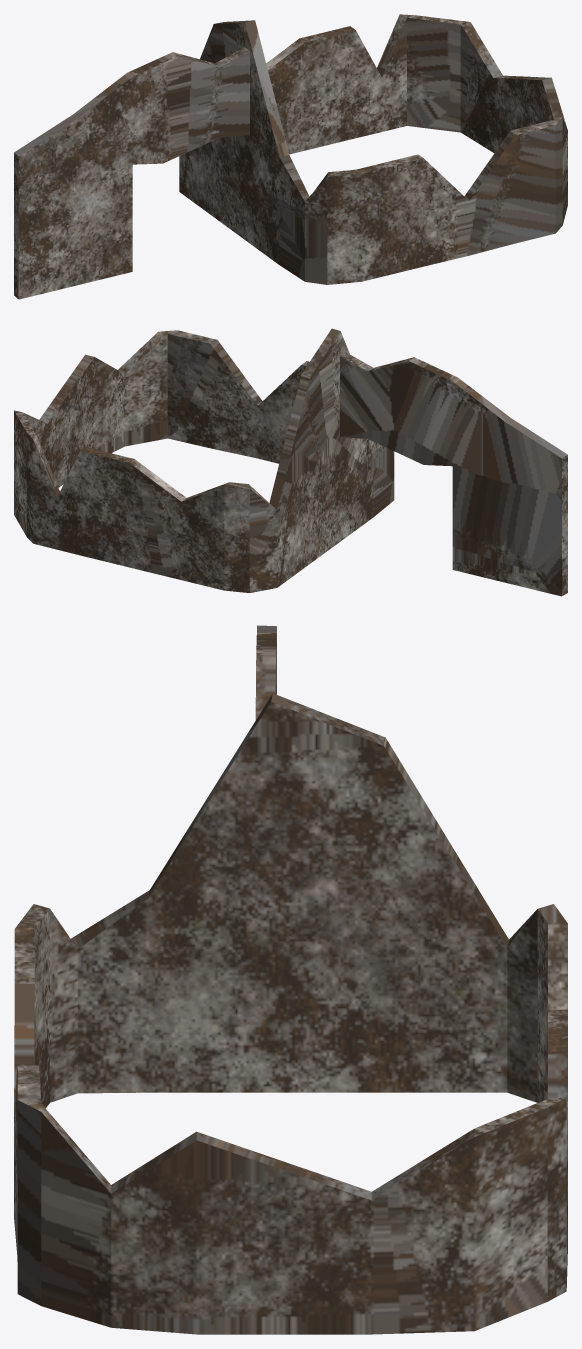
File: RuinaPuerta.obj
3 views of the same model, one above another, from view 1: azimuth 30°, elevation 25°; view 2: azimuth 150°, elevation 25°; view 3: azimuth 270°, elevation 25° (orthographic). The views are drawn at different scales.
Parts seen in each view (by area): view 1: Object016; view 2: Object016; view 3: Object016.
Boxes of the visible parts, box(x1,y1,x2,y2) form: Object016: box(14, 14, 567, 299); Object016: box(14, 328, 567, 596); Object016: box(14, 625, 567, 1334).
Bounding box in the file's own units: 66.45 × 26.78 × 34.38.
